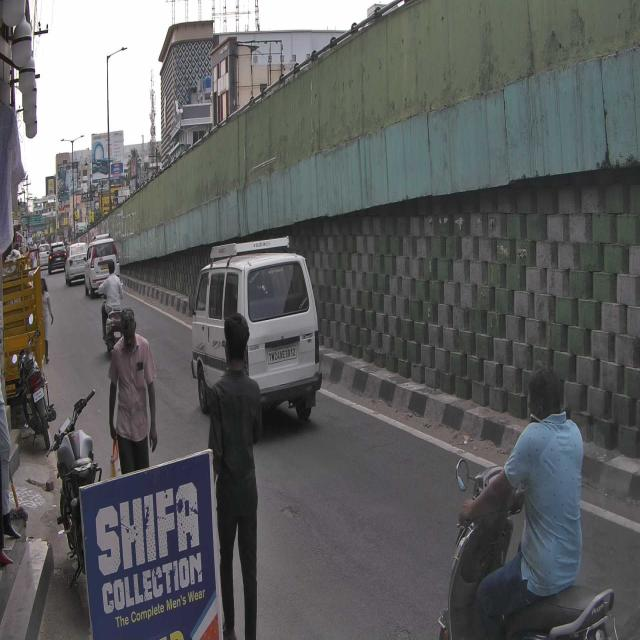single_rider: (437, 360, 622, 640)
